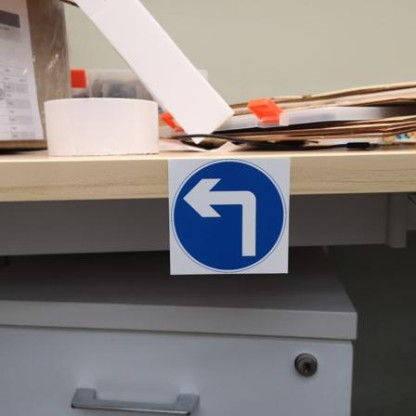left: (163, 149, 296, 278)
